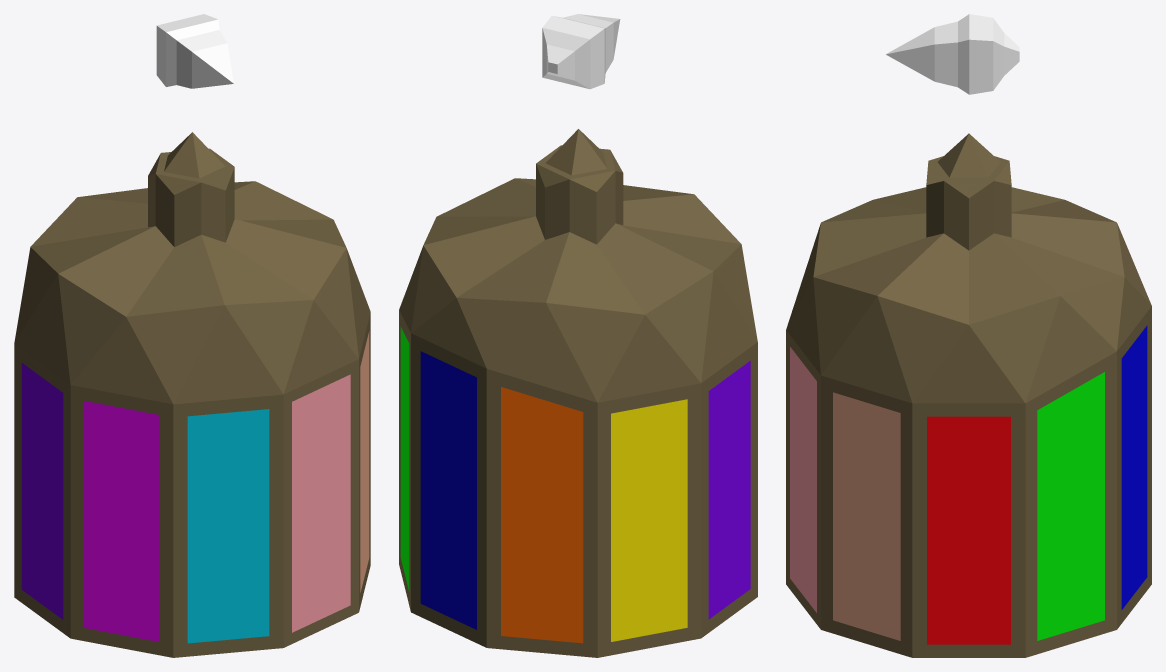
File: Lighttower.fbx
3 views of the same model, side by side, from view 1: azimuth 30°, elevation 25°; view 2: azimuth 150°, elevation 25°; view 3: azimuth 270°, elevation 25° (orthographic).
Parts seen in each view (by area): view 1: Icosphere, Cube; view 2: Icosphere, Cube; view 3: Icosphere, Cube.
Part boxes in pixels (x1,y1,x2,y2): Icosphere: (14, 132, 370, 657); Cube: (156, 14, 233, 88); Icosphere: (399, 129, 757, 657); Cube: (542, 14, 620, 89); Icosphere: (786, 133, 1151, 657); Cube: (886, 14, 1019, 94).
Bounding box in the file's own units: 190 × 336 × 200.
